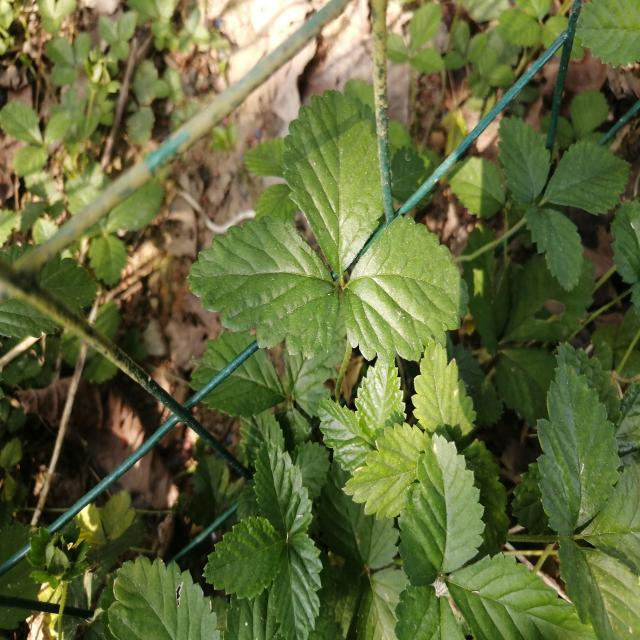Mock_strawberry: (201, 94, 463, 355), (341, 377, 599, 625)
